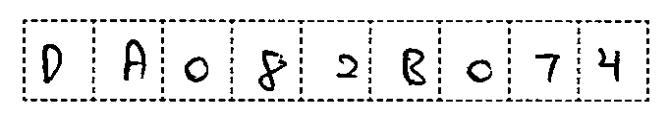0: (178, 52, 216, 88), (462, 54, 497, 90)
2: (328, 50, 364, 84)
4: (592, 42, 626, 86)
7: (526, 49, 566, 86)
8: (252, 46, 290, 95)
A: (114, 35, 155, 84)
B: (396, 42, 430, 90)
D: (34, 38, 71, 87)
